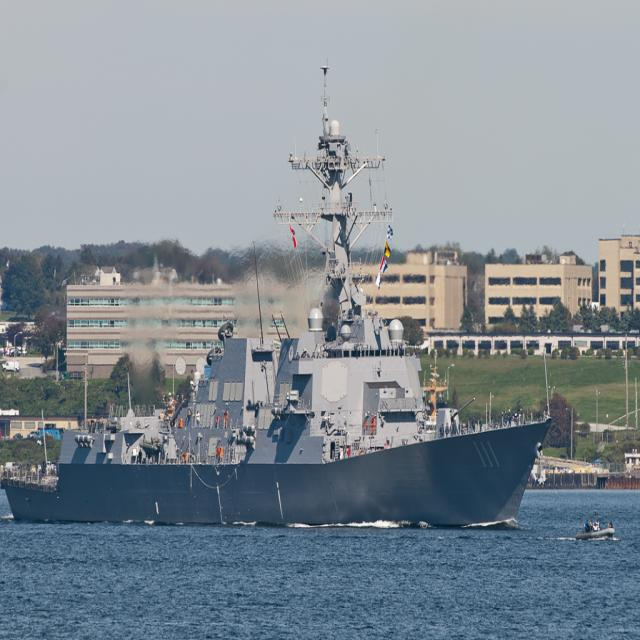Boat: (43, 67, 549, 540)
